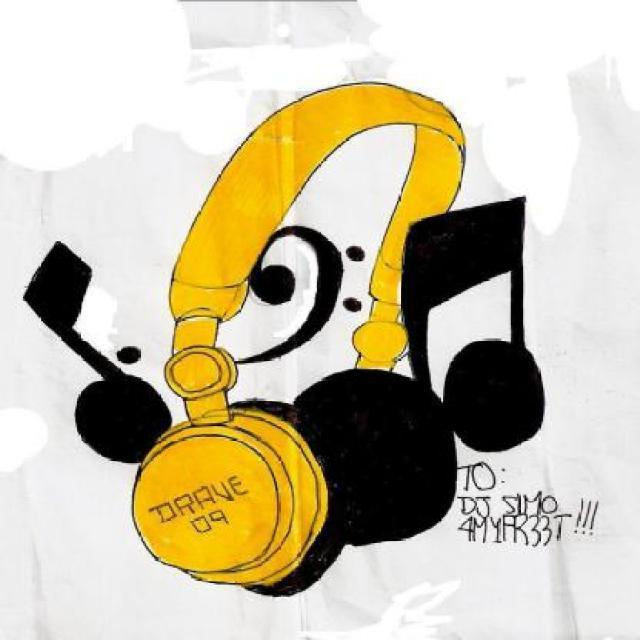earphone: (135, 66, 473, 606)
